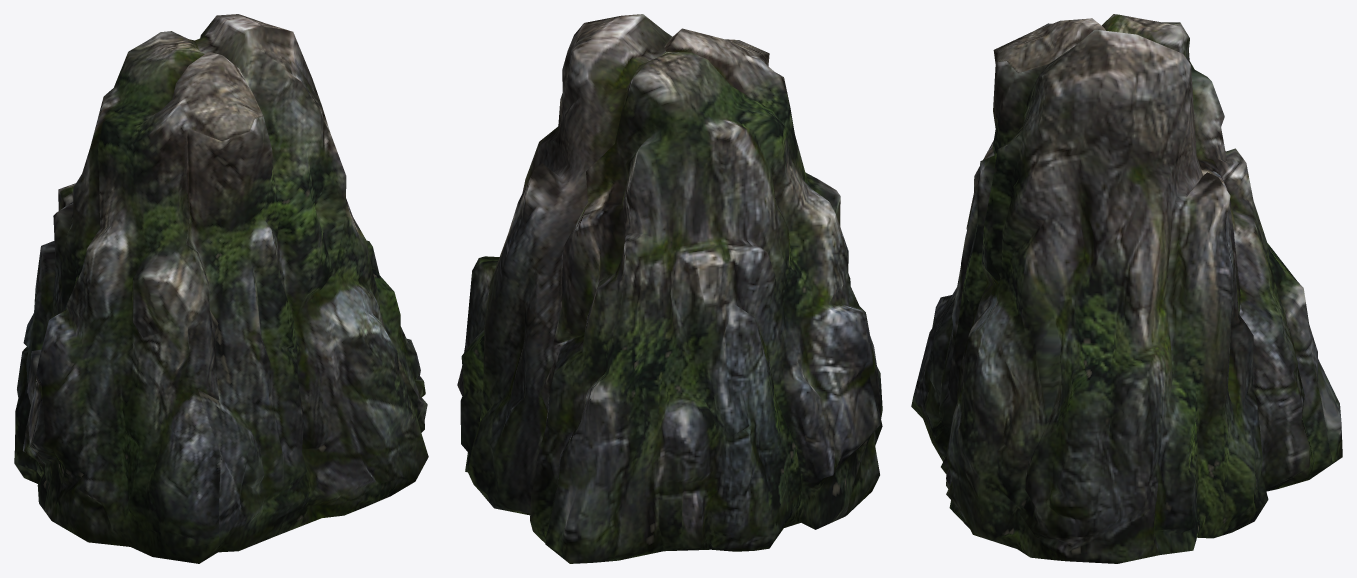
File: qys_shanshi01.FBX
3 views of the same model, side by side, from view 1: azimuth 30°, elevation 25°; view 2: azimuth 150°, elevation 25°; view 3: azimuth 270°, elevation 25° (orthographic). The views are drawn at different scales.
Visible parts, largest first — view 1: qys_shanshi01; view 2: qys_shanshi01; view 3: qys_shanshi01.
Part boxes in pixels (<box>): qys_shanshi01: <box>14,14,428,563</box>; qys_shanshi01: <box>457,14,882,563</box>; qys_shanshi01: <box>911,14,1342,563</box>.
Size of the model in its own units: 4822 by 5159 by 4410.
